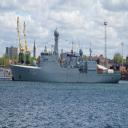Fragata: (9, 25, 123, 83)
